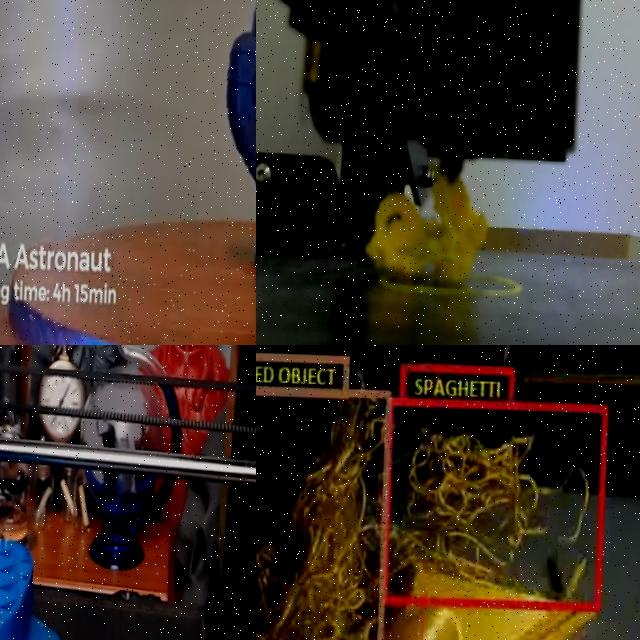spaghetti: (386, 415, 594, 599), (256, 401, 383, 640), (366, 173, 487, 279)
